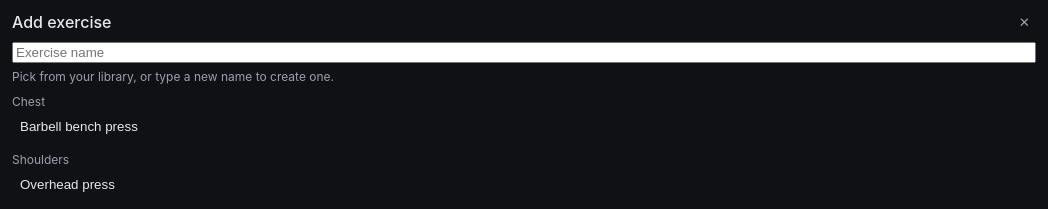
Test: ExercisePicker › shows the create affordance only when the query matches nothing
Type "cable fly" into the field with test id "picker-search" at (524, 52), box [12,42,1036,63]
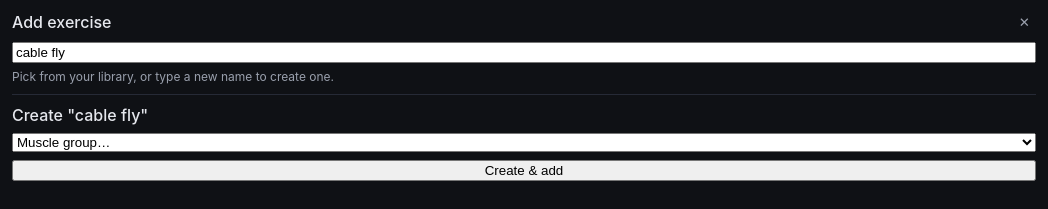
Check: the element with test id "picker-create" is shown, box [12,94,1036,181]
Check: the element with test id "picker-create" shows "cable fly", box [12,105,148,125]
